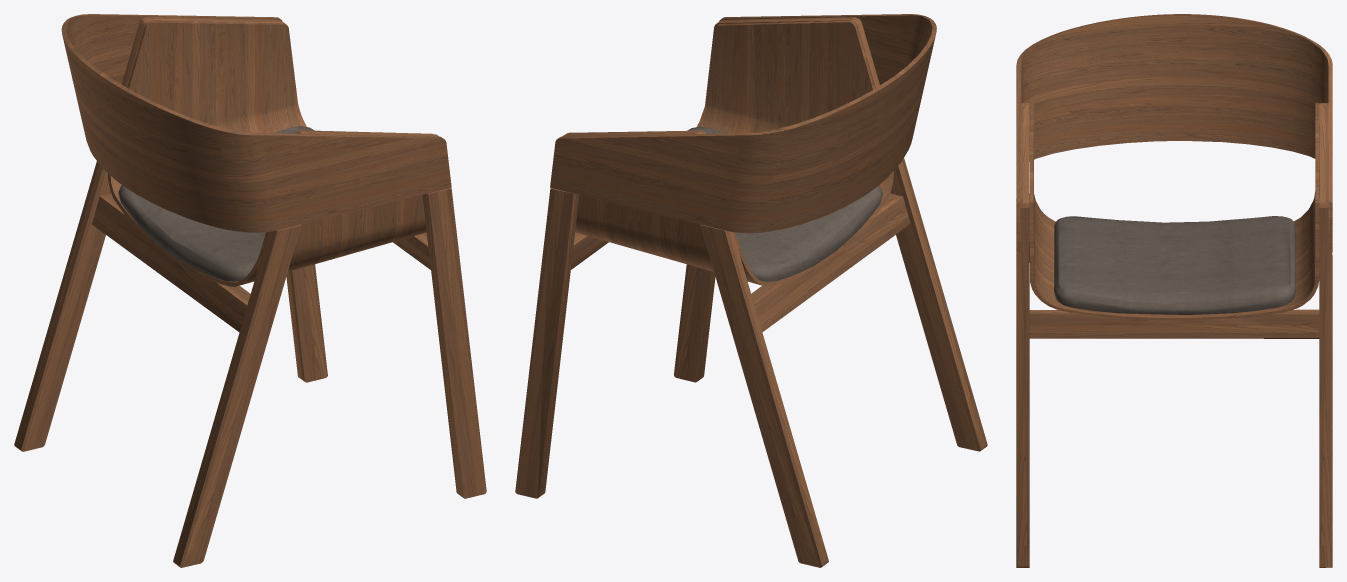
The model's file is Chair 1.FBX.
The picture shows the model from 3 angles, left to right: view 1: azimuth 30°, elevation 25°; view 2: azimuth 150°, elevation 25°; view 3: azimuth 270°, elevation 25°; orthographic projection. The views are drawn at different scales.
Parts seen in each view (by area): view 1: chair 1; view 2: chair 1; view 3: chair 1.
Part boxes in pixels (bbox=[...]): chair 1: bbox=[14, 14, 486, 567]; chair 1: bbox=[515, 14, 987, 567]; chair 1: bbox=[1016, 14, 1332, 567].
Size of the model in its own units: 62.23 by 83.98 by 58.2.
Materials: 2 (2 with a texture image).
